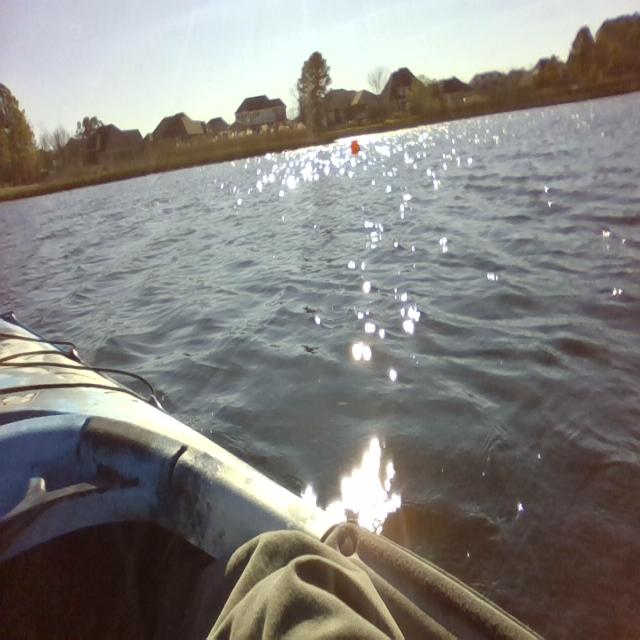Buoy: (344, 134, 368, 167)
